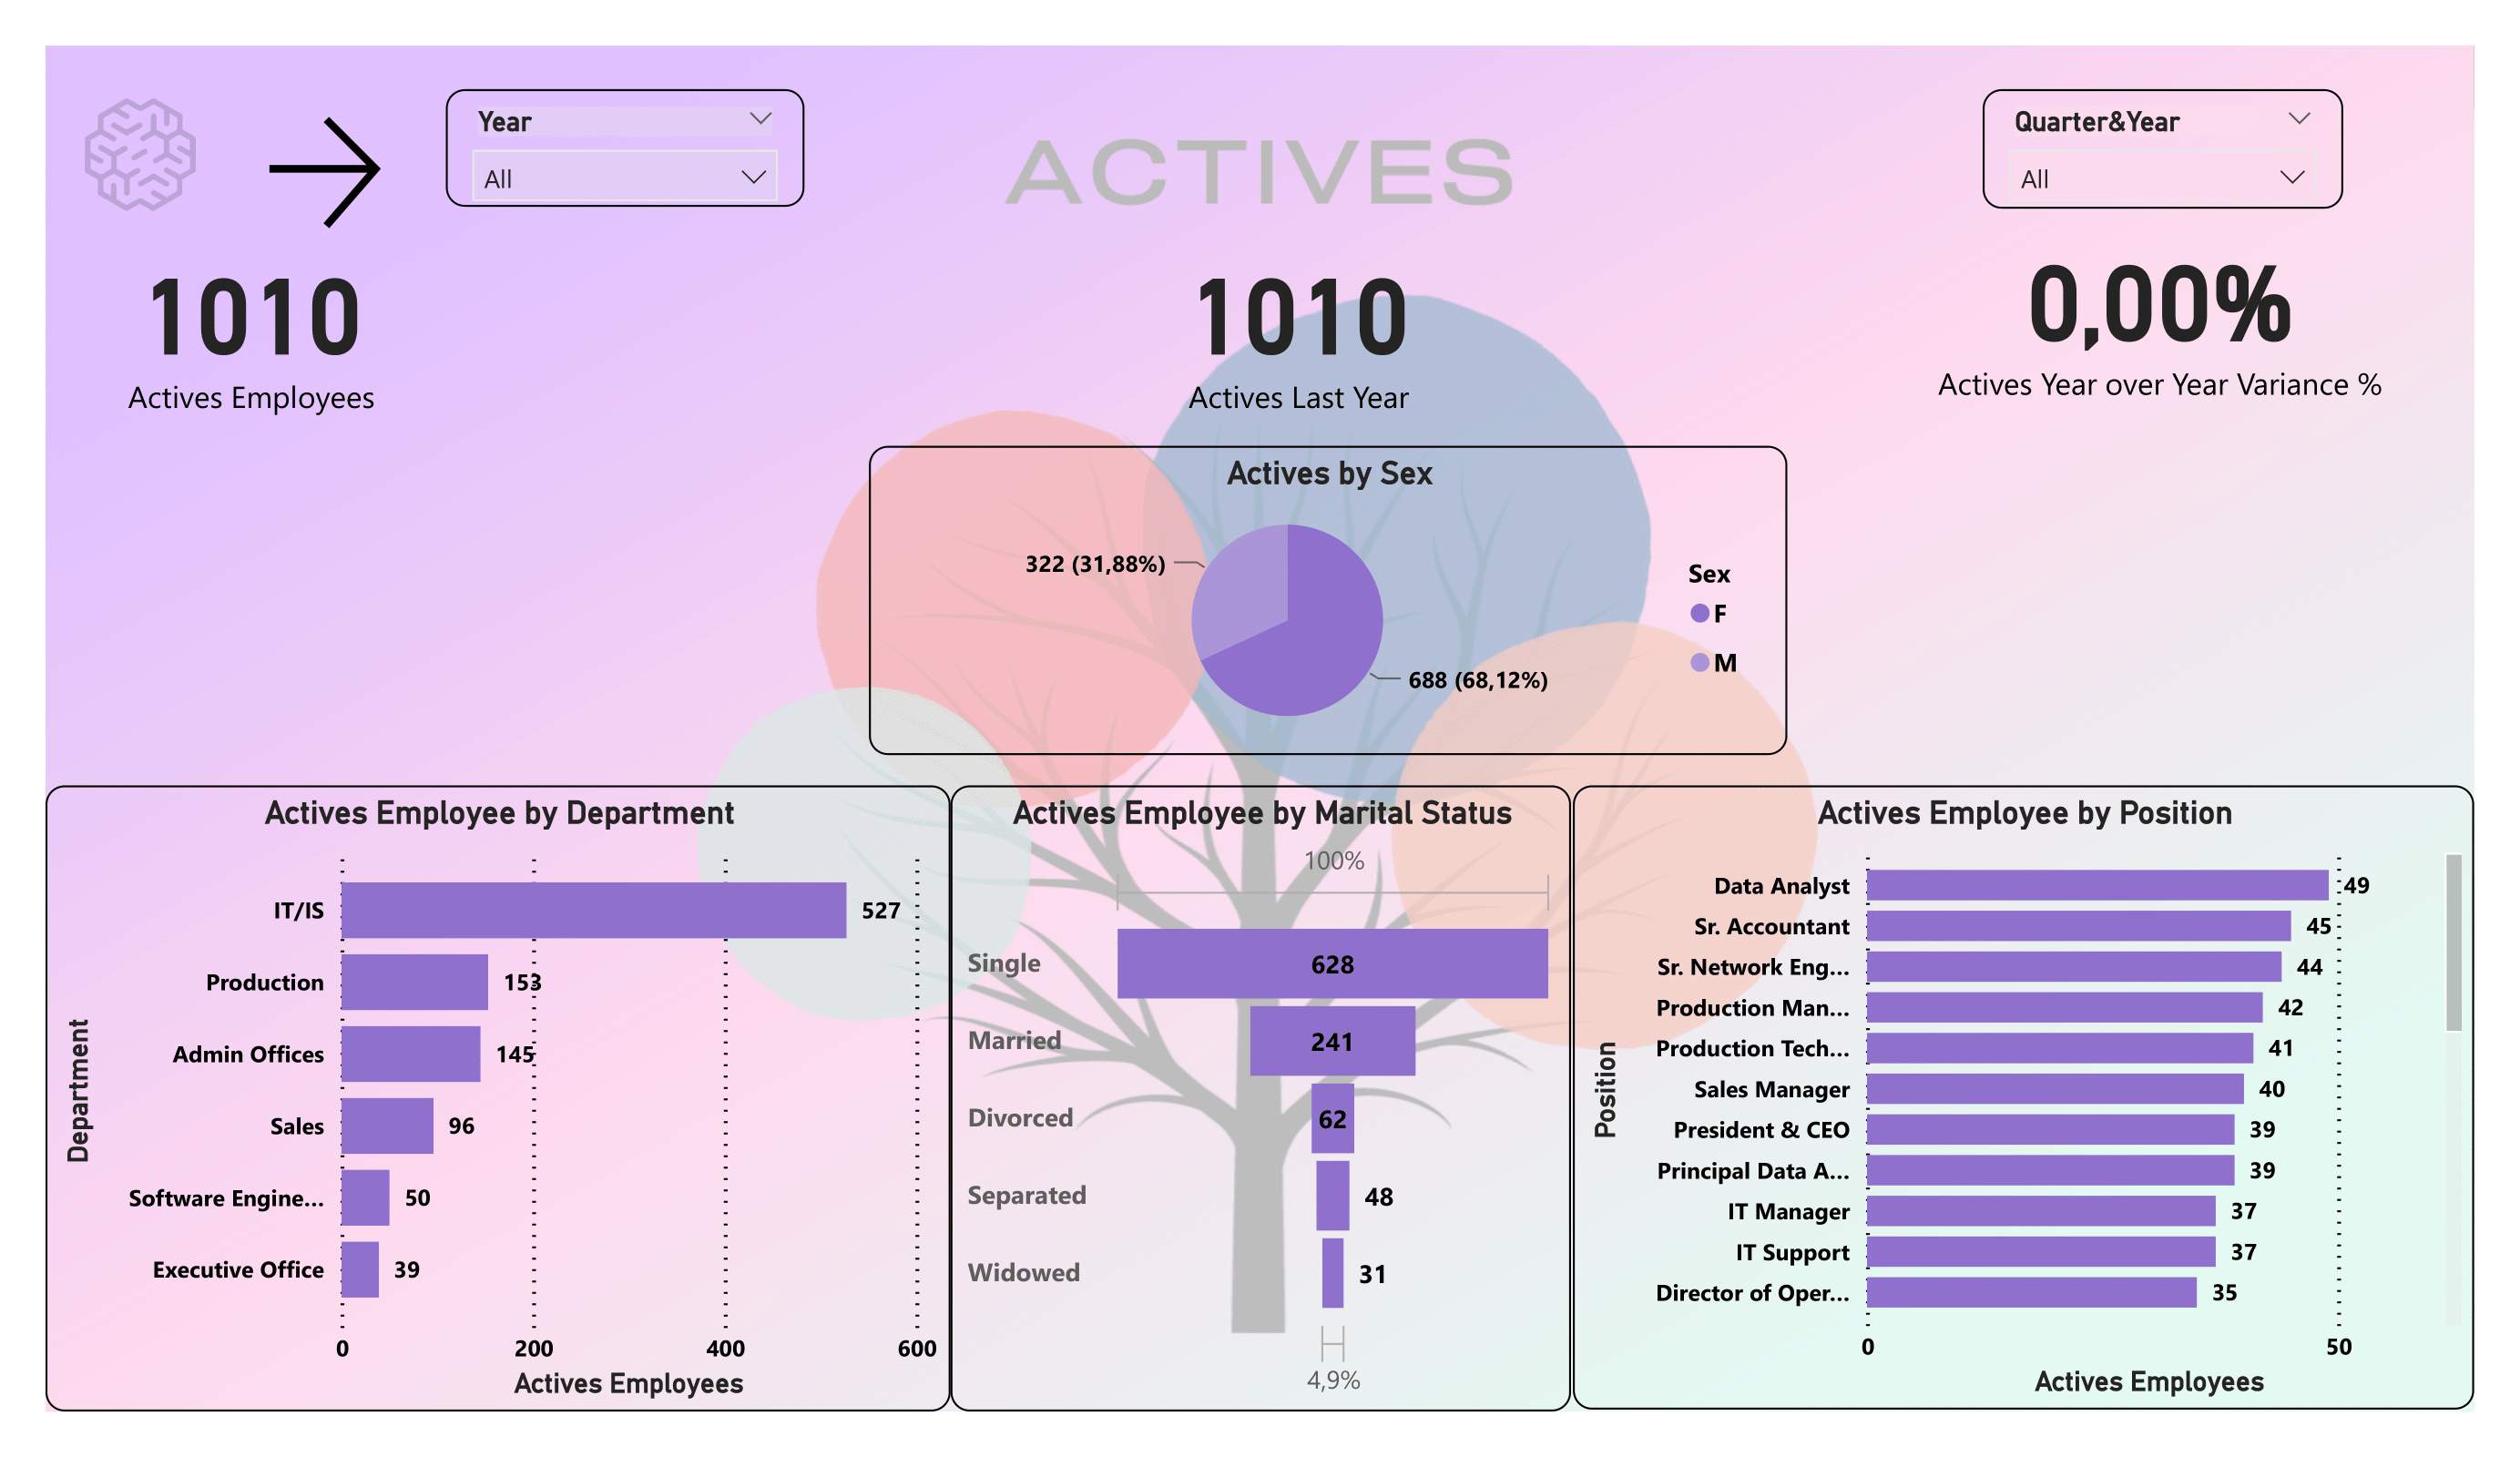

What the dashboard file says about the page in this screenshot:
{"tool":"powerbi","page":{"name":"ACTIVES","canvas":[1280,720],"ordinal":4},"visuals":[{"type":"image","box":[15.4,22.7,69,69],"z":0},{"type":"barChart","title":"Actives Employee by Department","fields":{"Y":["1.DepartmentKeyMeasures.Actives Employee"],"Category":["Department.Name"]},"box":[0,390,476.8,329.8],"z":1000},{"type":"funnel","title":"Actives Employee by Marital Status","fields":{"Y":["1.DepartmentKeyMeasures.Actives Employee"],"Category":["MaritalStatus.MaritalDesc"]},"box":[476.8,390,327.5,329.8],"z":2000},{"type":"barChart","title":"Actives Employee by Position","fields":{"Y":["1.DepartmentKeyMeasures.Actives Employee"],"Category":["Position.Position"]},"box":[804.7,389.7,475.3,329.5],"z":3000},{"type":"pieChart","title":"Actives  by Sex","fields":{"Y":["1.DepartmentKeyMeasures.Actives Employee"],"Category":["Gender.Sex"]},"box":[434.2,211.1,483.7,163],"z":4000},{"type":"card","fields":{"Values":["1.DepartmentKeyMeasures.Actives Employee"]},"box":[37.6,92.3,141.3,108.2],"z":5000},{"type":"card","fields":{"Values":["2.ActivesKeyMeasures.Actives Last Year"]},"box":[588.8,92.5,143,108],"z":6000},{"type":"card","fields":{"Values":["2.ActivesKeyMeasures.Actives Year over Year Variance % 11"]},"box":[982,85.4,265.4,108.2],"z":7000},{"type":"slicer","fields":{"Values":["Calendar.Year"]},"box":[210.8,22.8,189.1,62.7],"z":8000},{"type":"slicer","fields":{"Values":["Calendar.QuarterInCalendar"]},"box":[1020.8,22.7,189.7,62.8],"z":9000},{"type":"actionButton","box":[95.7,30.8,100.3,71.8],"z":10000}]}

Visuals, with their boxes on the page's 1280x720 design canvas (x1, y1, x2, y2). These are canvas units, not pixel positions in the 2520x1457 screenshot, which may show the page scaled, cropped or inside an application window:
image: region(15, 23, 84, 92)
"Actives Employee by Department" barChart: region(0, 390, 477, 720)
"Actives Employee by Marital Status" funnel: region(477, 390, 804, 720)
"Actives Employee by Position" barChart: region(805, 390, 1280, 719)
"Actives  by Sex" pieChart: region(434, 211, 918, 374)
card - 1.DepartmentKeyMeasures.Actives Employee: region(38, 92, 179, 200)
card - 2.ActivesKeyMeasures.Actives Last Year: region(589, 92, 732, 200)
card - 2.ActivesKeyMeasures.Actives Year over Year Variance % 11: region(982, 85, 1247, 194)
slicer - Calendar.Year: region(211, 23, 400, 86)
slicer - Calendar.QuarterInCalendar: region(1021, 23, 1210, 86)
actionButton: region(96, 31, 196, 103)
